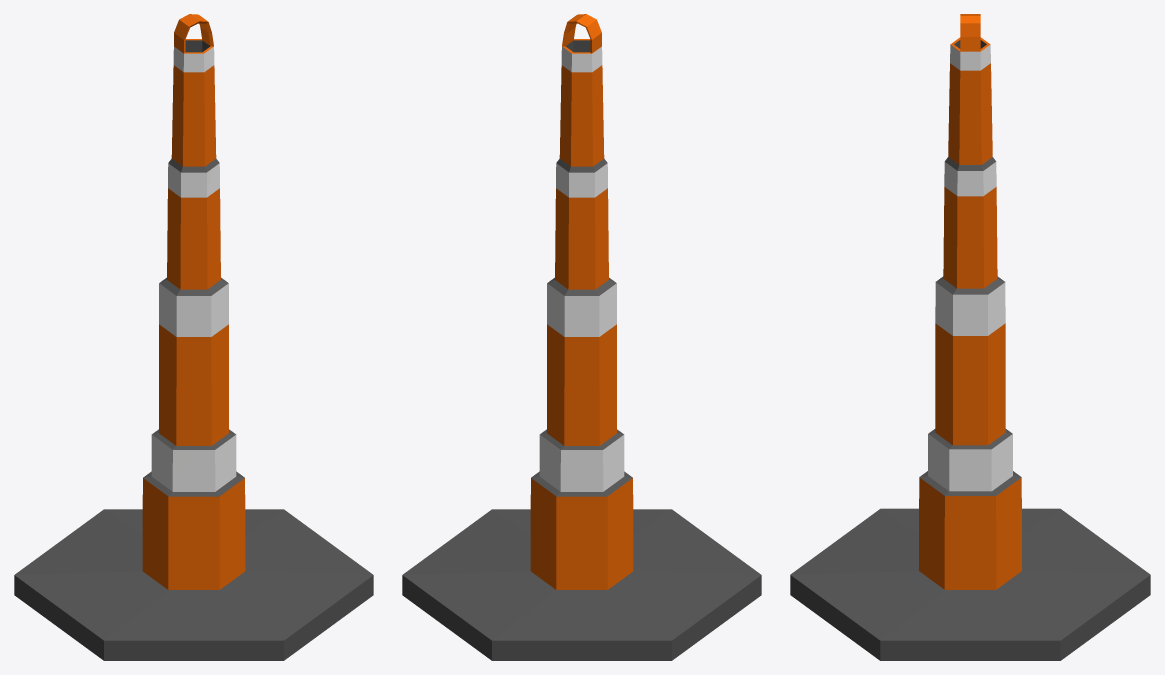
Rendered from thin cone .fbx.
3 views of the same model, side by side, from view 1: azimuth 30°, elevation 25°; view 2: azimuth 150°, elevation 25°; view 3: azimuth 270°, elevation 25° (orthographic).
Parts seen in each view (by area): view 1: Cone.001; view 2: Cone.001; view 3: Cone.001.
Boxes of the visible parts, bbox=[...] form: Cone.001: bbox=[14, 14, 373, 660]; Cone.001: bbox=[402, 14, 761, 660]; Cone.001: bbox=[790, 14, 1150, 660].
Bounding box in the file's own units: 189 × 386 × 218.
